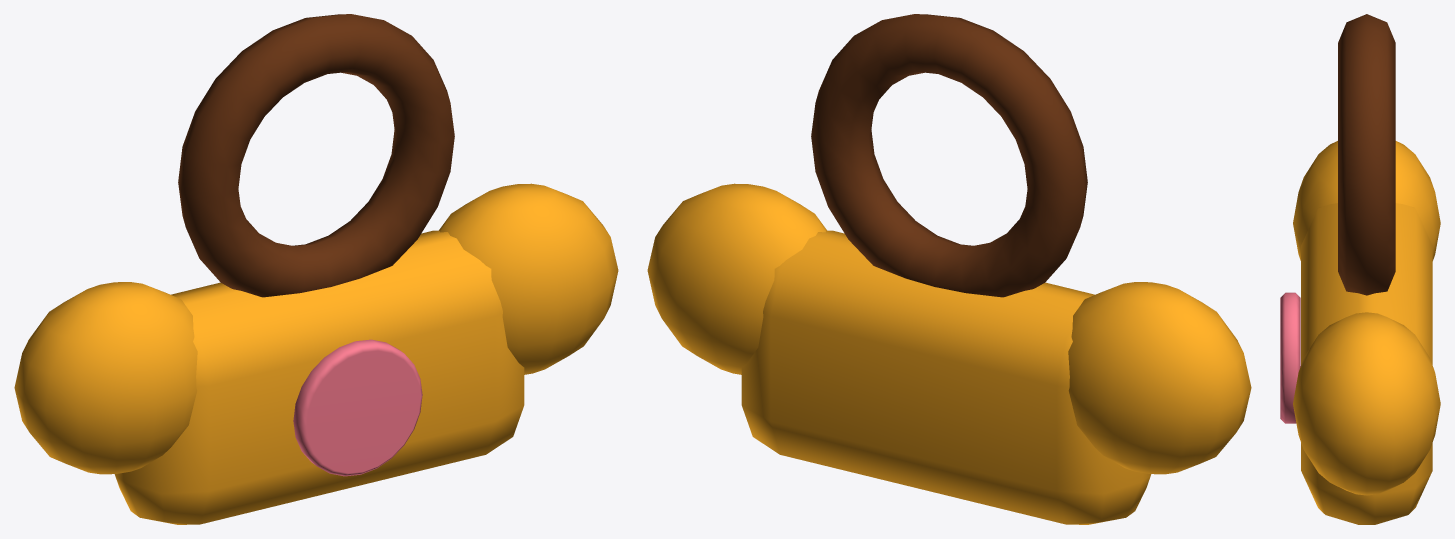
Rendered from jadelock.glb.
3 renders of one model, left to right at view 1: azimuth 30°, elevation 25°; view 2: azimuth 150°, elevation 25°; view 3: azimuth 270°, elevation 25°, orthographic. The views are drawn at different scales.
Parts seen in each view (by area): view 1: jadelock; view 2: jadelock; view 3: jadelock.
Boxes of the visible parts, bbox=[...] form: jadelock: bbox=[14, 14, 618, 524]; jadelock: bbox=[647, 14, 1251, 524]; jadelock: bbox=[1280, 14, 1440, 524].
Size of the model in its own units: 1 by 0.7632 by 0.2572.
1 material, 1 textured.
